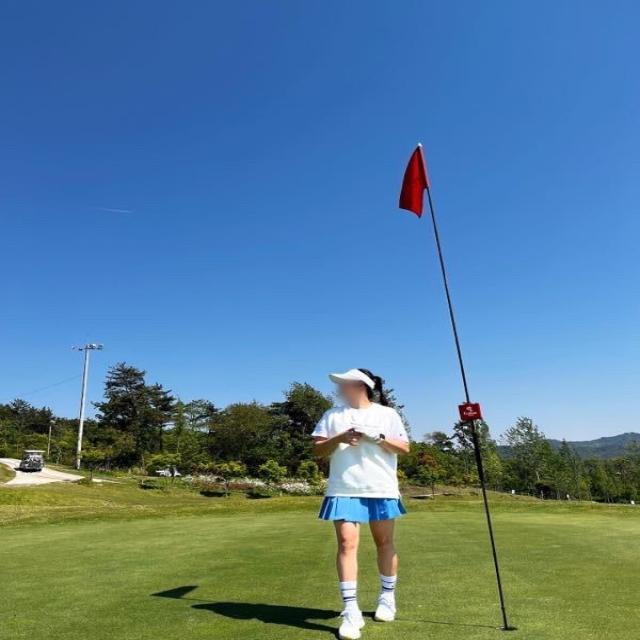shortsleeve: (310, 402, 408, 498)
skirt: (315, 494, 410, 525)
